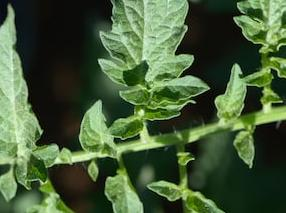Tomato leaf mosaic virus: (93, 0, 188, 97), (0, 0, 47, 162), (76, 97, 119, 161), (213, 60, 250, 127), (101, 161, 147, 213), (107, 112, 142, 139)
